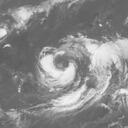cyclone: (34, 35, 91, 90)
